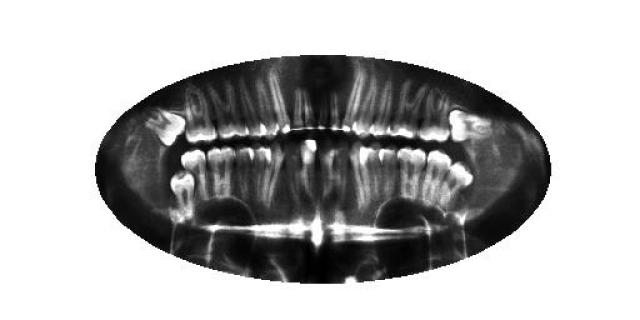Fillings: (386, 79, 429, 139), (298, 139, 318, 199)
Restorations: (142, 106, 186, 146), (448, 106, 493, 144), (170, 170, 195, 212)
